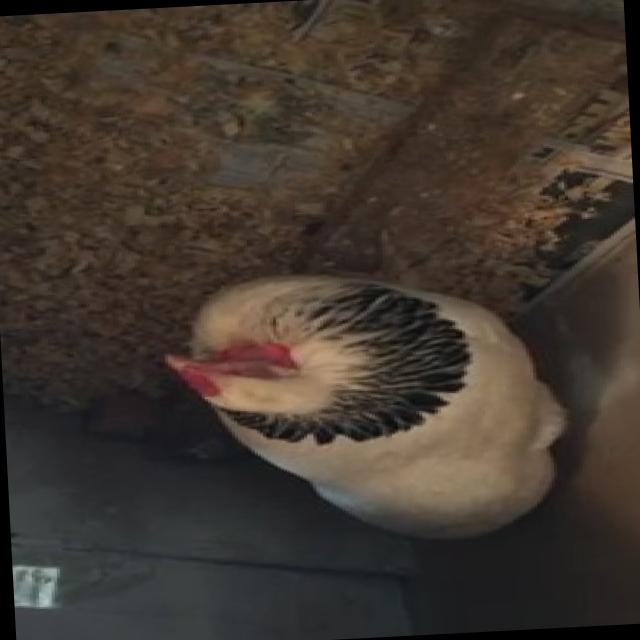Breathing: (154, 255, 576, 558)
